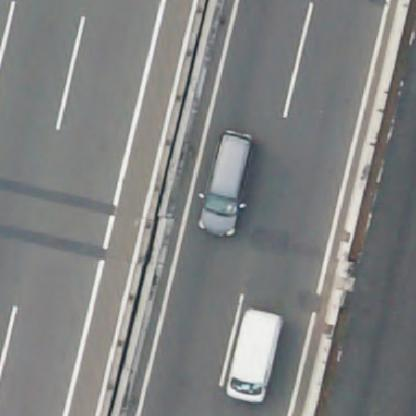car: (223, 307, 280, 403), (204, 131, 253, 233)
